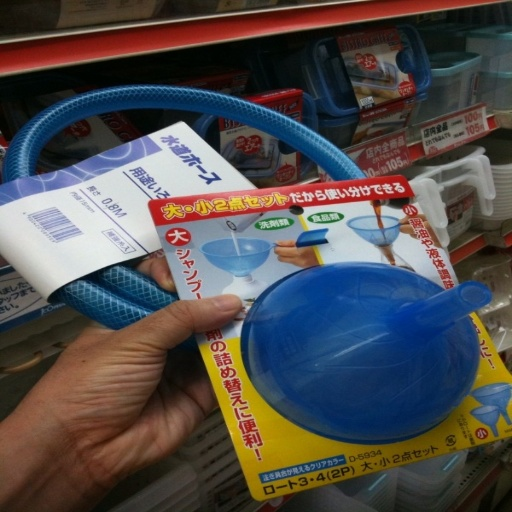hand: (0, 312, 203, 510), (394, 211, 442, 248), (272, 240, 315, 270)
